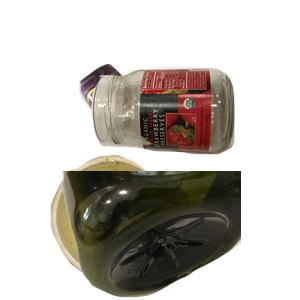glass: (89, 65, 300, 212)
metal: (77, 61, 222, 191)
plastic: (60, 171, 300, 300)
trash: (48, 152, 219, 300)
